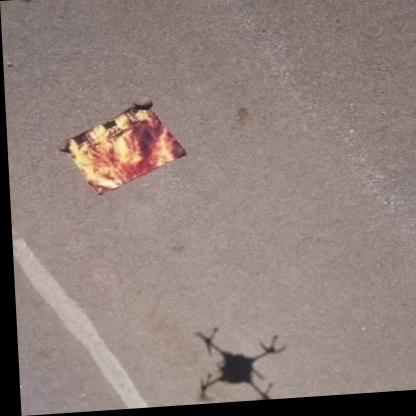fire-poster: (52, 99, 188, 198)
